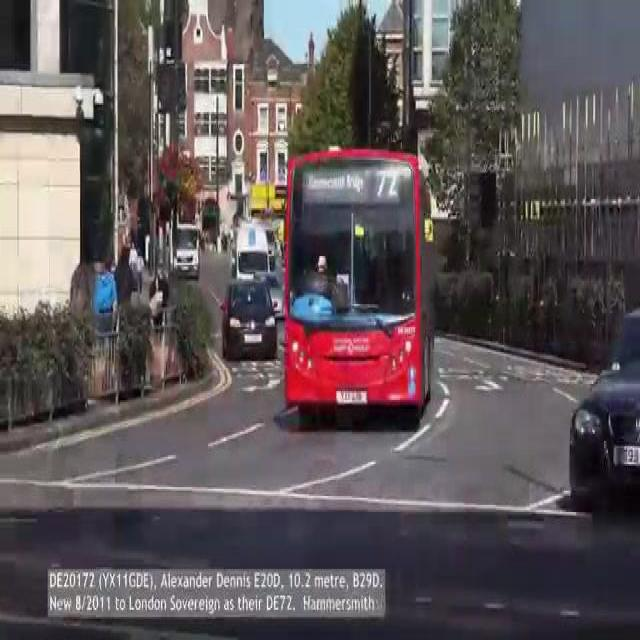motorcycle: (278, 155, 430, 421)
